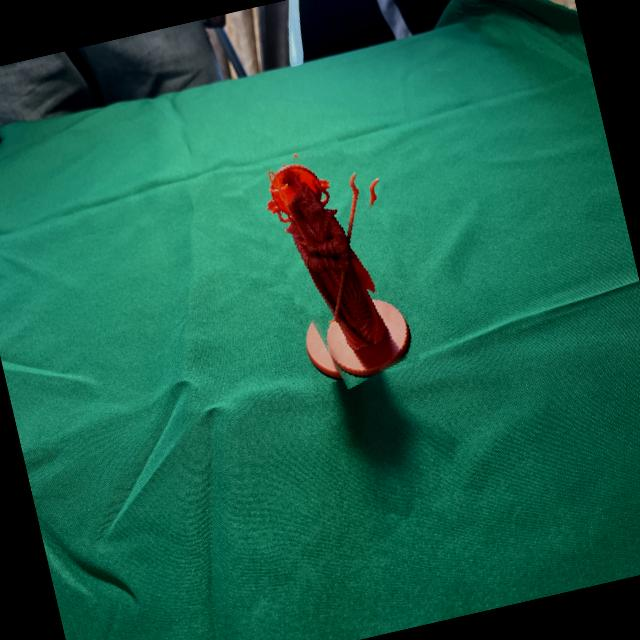amon: (248, 128, 435, 394)
